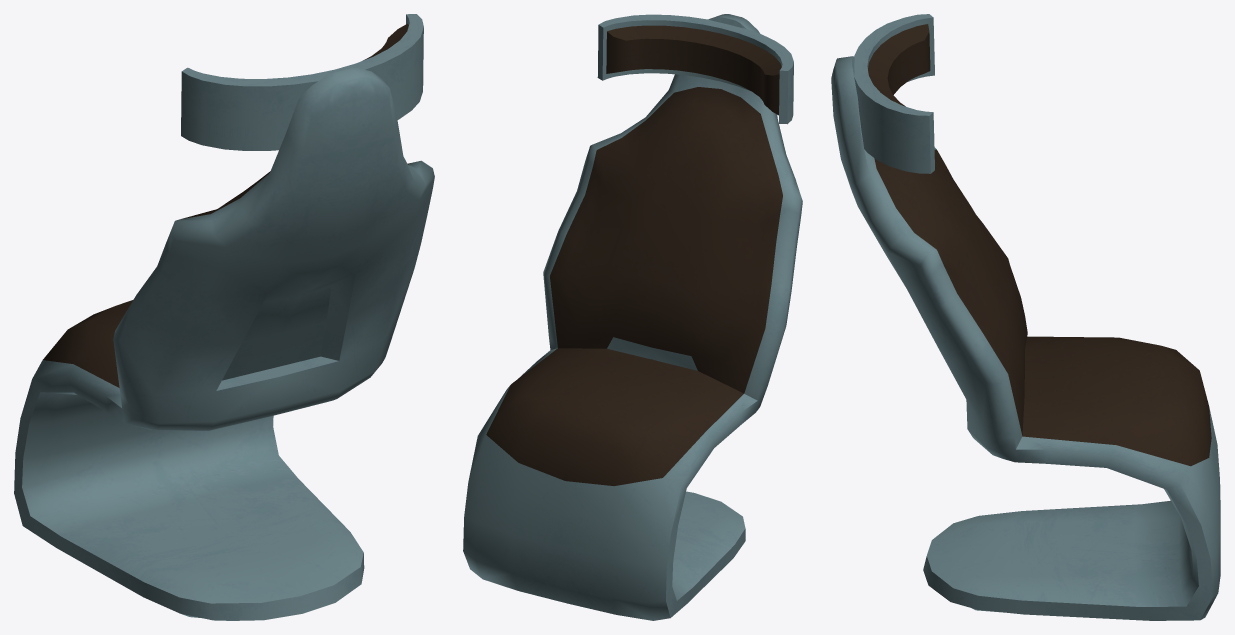
The model's file is OperatorChair.gltf.
The picture shows the model from 3 angles, left to right: view 1: azimuth 30°, elevation 25°; view 2: azimuth 150°, elevation 25°; view 3: azimuth 270°, elevation 25°; orthographic projection. The views are drawn at different scales.
Visible parts, largest first — view 1: Prop_Chair; view 2: Prop_Chair; view 3: Prop_Chair.
Boxes of the visible parts, x1,y1,x2,y2 form: Prop_Chair: [14, 14, 434, 620]; Prop_Chair: [463, 14, 802, 620]; Prop_Chair: [831, 14, 1220, 620].
Bounding box in the file's own units: 0.8807 × 1.64 × 1.12.
Materials: 2 (2 with a texture image).
